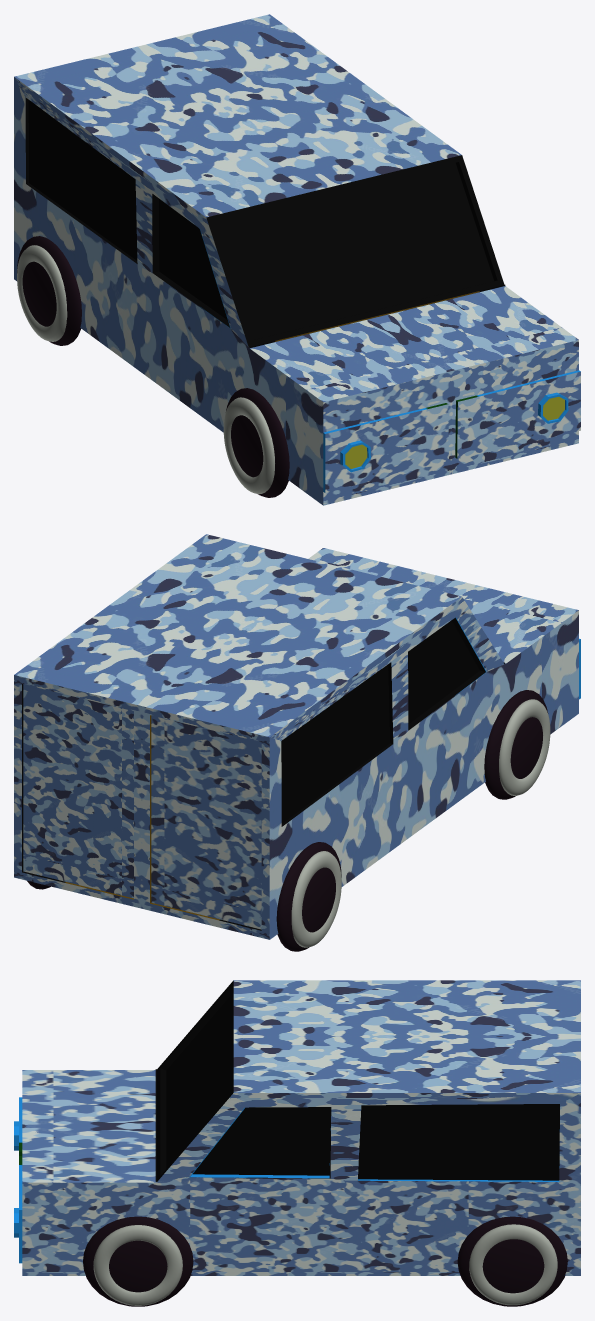
Rendered from carro protagonista(1).fbx.
3 views of the same model, one above another, from view 1: azimuth 30°, elevation 25°; view 2: azimuth 150°, elevation 25°; view 3: azimuth 270°, elevation 25° (orthographic). The views are drawn at different scales.
Visible parts, largest first — view 1: carroceria, rueda frontal derecha, rueda trasera derecha; view 2: carroceria, rueda frontal derecha, rueda trasera derecha; view 3: carroceria, rueda frontal izquierda, rueda trasera izquierda.
Boxes of the visible parts, x1,y1,x2,y2 form: carroceria: (14, 14, 580, 505); rueda frontal derecha: (223, 388, 289, 497); rueda trasera derecha: (17, 236, 81, 345); carroceria: (14, 534, 580, 939); rueda frontal derecha: (484, 690, 550, 799); rueda trasera derecha: (276, 842, 341, 951); carroceria: (14, 980, 580, 1275); rueda frontal izquierda: (83, 1216, 193, 1306); rueda trasera izquierda: (457, 1216, 567, 1306).
Size of the model in its own units: 529 by 424 by 1018.
4 materials, 2 textured.
